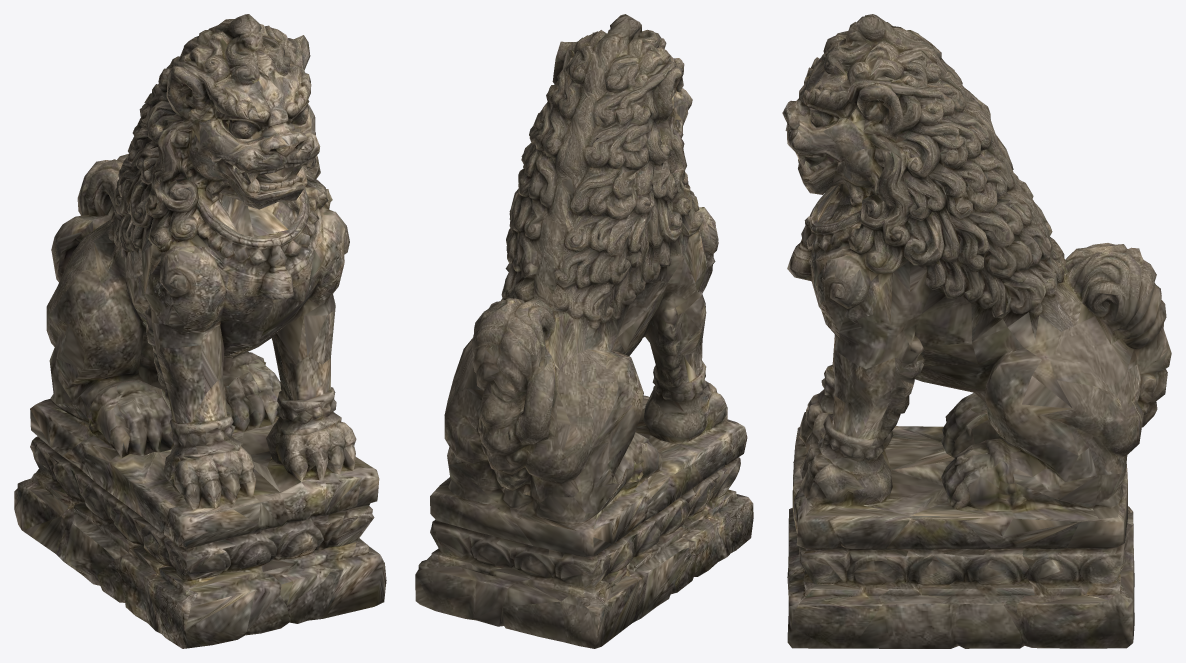
The model's file is lion.glb.
3 renders of one model, left to right at view 1: azimuth 30°, elevation 25°; view 2: azimuth 150°, elevation 25°; view 3: azimuth 270°, elevation 25°, orthographic. The views are drawn at different scales.
Parts seen in each view (by area): view 1: lion; view 2: lion; view 3: lion.
Part boxes in pixels (x1,y1,x2,y2): lion: [14, 14, 386, 648]; lion: [415, 14, 753, 648]; lion: [782, 14, 1171, 648].
Bounding box in the file's own units: 0.622 × 1.7 × 1.03.
Materials: 1 (1 with a texture image).
